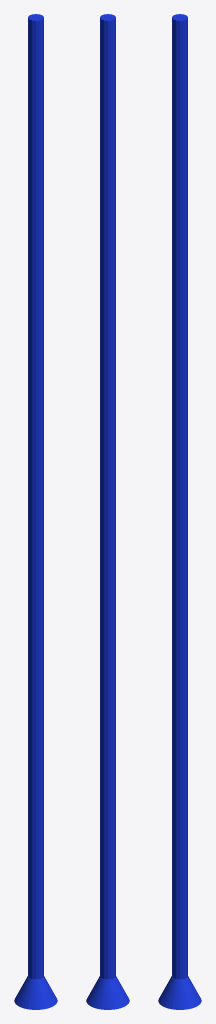
File: ero_3.fbx
3 views of the same model, side by side, from view 1: azimuth 90°, elevation 25°; view 2: azimuth 150°, elevation 25°; view 3: azimuth 270°, elevation 25° (orthographic).
Visible parts, largest first — view 1: Cylinder, Cone; view 2: Cylinder, Cone; view 3: Cylinder, Cone.
Boxes of the visible parts, x1,y1,x2,y2 form: Cylinder: (28, 14, 43, 979); Cone: (14, 976, 57, 1009); Cylinder: (100, 14, 115, 979); Cone: (86, 976, 129, 1009); Cylinder: (172, 14, 187, 979); Cone: (158, 976, 201, 1009).
Size of the model in its own units: 4 by 4 by 100.
